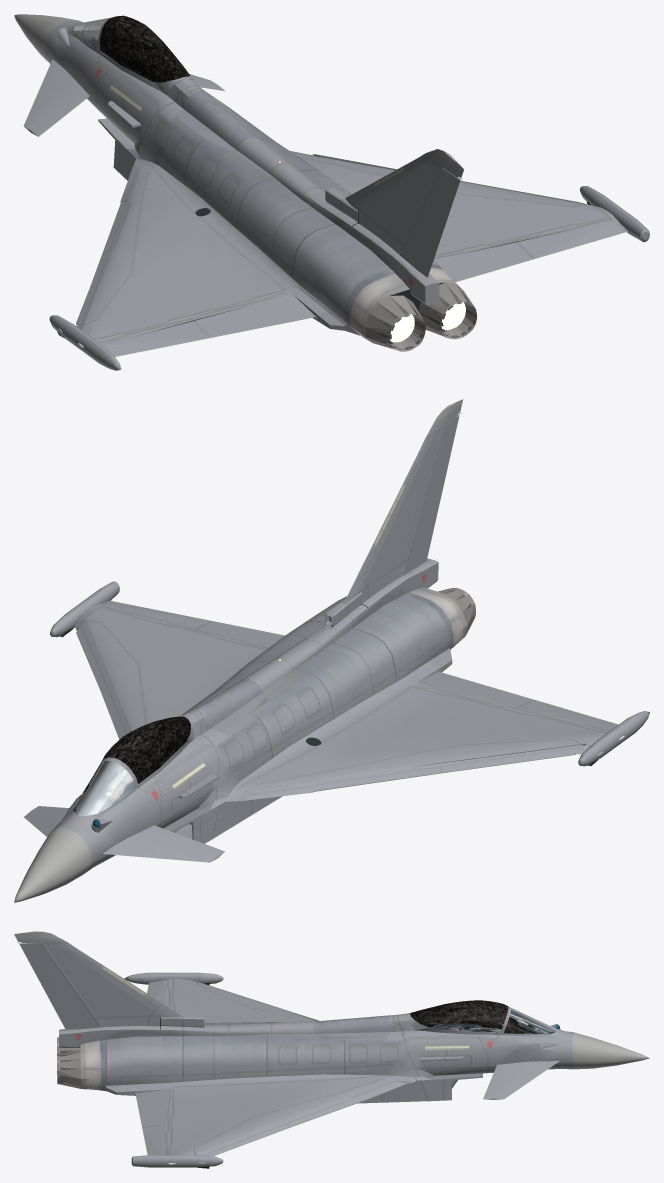
Rendered from EUFI.glb.
3 renders of one model, top to bottom at view 1: azimuth 30°, elevation 25°; view 2: azimuth 150°, elevation 25°; view 3: azimuth 270°, elevation 25°, orthographic. The views are drawn at different scales.
Visible parts, largest first — view 1: fuselage.001_1, wing.01L, wing.01R, vertstab, Engines, canopyglass, rudder, speedbrake, flaperon.L, elevator.L, pod.L, flaperon.R (+6 smaller); view 2: fuselage.001_1, wing.01L, wing.01R, vertstab, canopyglass, Slat.L, elevator.L, rudder, pod.L, speedbrake, canopyglass.fornt, Slat.R (+5 smaller); view 3: fuselage.001_1, wing.01R, vertstab, wing.01L, rudder, canopyglass, pod.L, elevator.R, Slat.R, speedbrake, flaperon.R, Engines (+3 smaller).
Boxes of the visible parts, x1,y1,x2,y2 form: fuselage.001_1: (14,14,460,342); wing.01L: (76,158,299,345); wing.01R: (290,151,616,259); vertstab: (325,149,463,254); Engines: (365,282,476,351); canopyglass: (100,15,190,82); rudder: (399,168,460,277); speedbrake: (177,90,267,151); flaperon.L: (195,294,315,337); elevator.L: (23,59,89,136); pod.L: (49,186,649,370); flaperon.R: (434,242,533,282); fuselage.001_1: (14,558,467,902); wing.01L: (225,678,611,801); wing.01R: (74,604,268,731); vertstab: (325,399,463,629); canopyglass: (102,716,190,783); Slat.L: (312,742,583,791); elevator.L: (102,825,224,862); rudder: (403,415,459,575); pod.L: (50,581,649,766); speedbrake: (191,679,267,731); canopyglass.fornt: (73,761,135,815); Slat.R: (76,620,131,739); fuselage.001_1: (59,1007,649,1103); wing.01R: (164,1074,416,1155); vertstab: (14,931,205,1027); wing.01L: (163,978,316,1022); rudder: (19,943,102,1029); canopyglass: (410,1000,508,1031); pod.L: (124,972,223,1167); elevator.R: (483,1060,559,1099); Slat.R: (195,1096,362,1156); speedbrake: (317,1015,394,1038); flaperon.R: (135,1089,168,1127); Engines: (57,1037,81,1088).
Bounding box in the file's own units: 11.25 × 4.69 × 16.11.
Materials: 52 (45 with a texture image).
